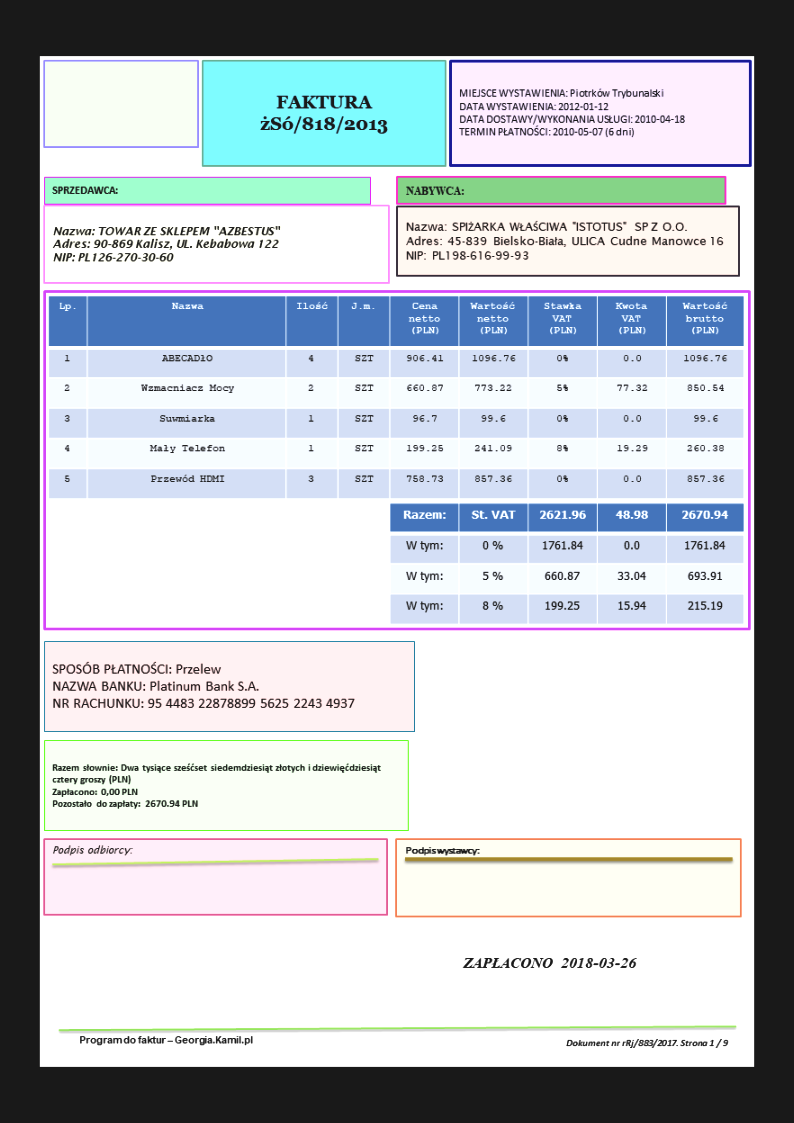Table: (47, 295, 745, 500), (388, 503, 744, 624)
TextBox: (51, 658, 357, 712), (50, 762, 383, 809), (402, 220, 726, 263), (456, 84, 687, 140), (51, 224, 281, 264), (257, 92, 391, 136), (459, 953, 639, 971), (564, 1036, 730, 1052), (78, 1032, 255, 1047), (50, 843, 135, 859), (403, 845, 480, 858), (49, 183, 120, 197), (403, 184, 465, 198)
